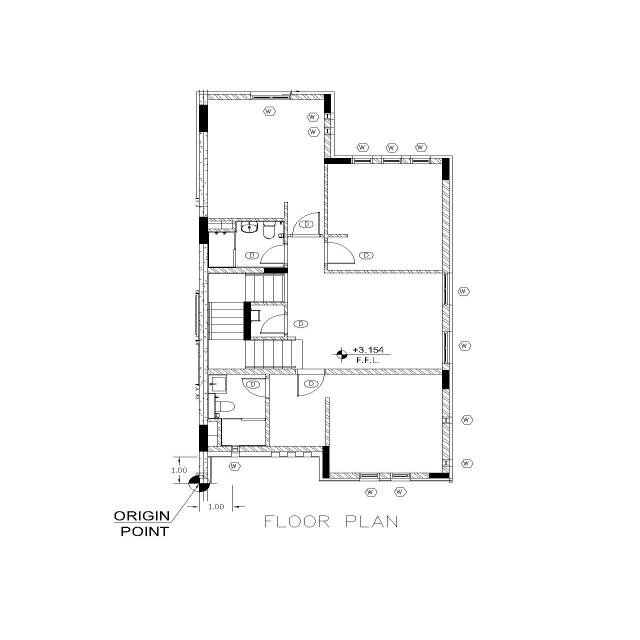Column: (198, 104, 210, 133), (321, 445, 331, 479), (198, 217, 210, 244), (244, 302, 252, 341), (198, 424, 209, 452), (441, 369, 451, 390), (263, 266, 289, 274), (323, 94, 333, 114), (323, 158, 351, 165), (442, 157, 450, 181), (428, 472, 450, 479)
Door: (294, 368, 328, 375), (322, 242, 330, 266), (282, 242, 290, 266), (290, 233, 322, 238), (264, 376, 270, 399), (284, 312, 288, 336)
Staircase: (207, 272, 305, 370)
Window: (440, 330, 454, 365), (441, 272, 454, 306), (250, 91, 292, 101), (409, 155, 434, 165), (352, 155, 374, 165), (381, 155, 403, 165), (389, 472, 413, 479), (357, 472, 381, 479), (440, 458, 454, 468), (440, 416, 452, 424), (229, 444, 241, 452), (323, 127, 333, 136), (323, 112, 332, 120)
